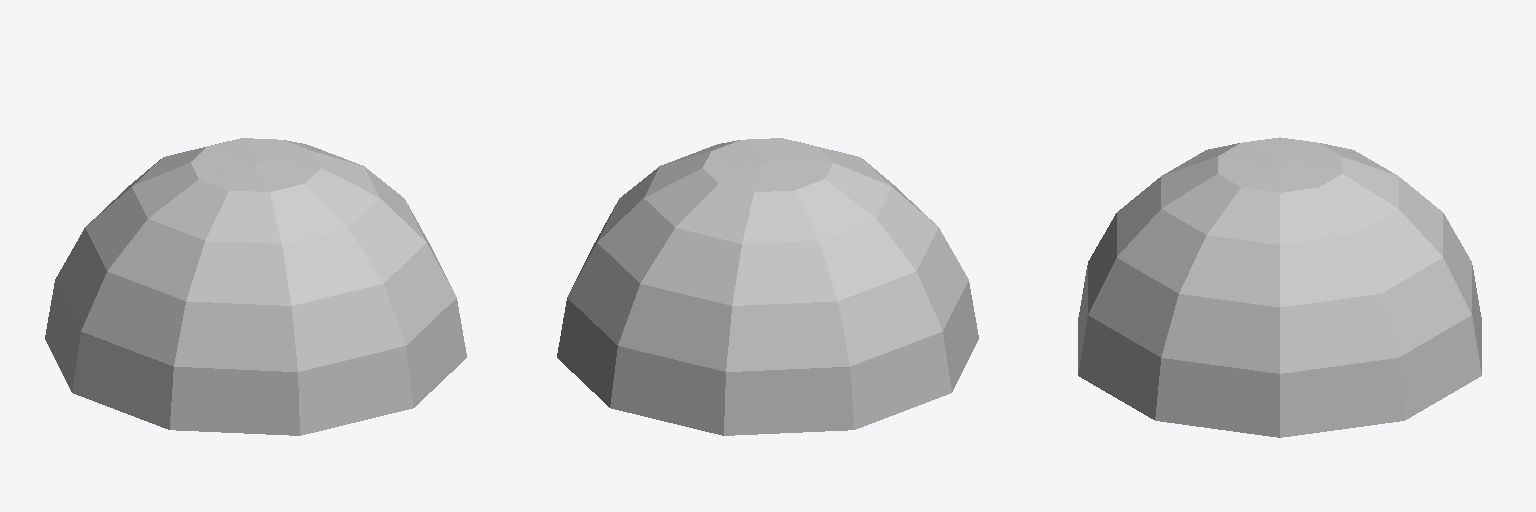
The model's file is dome.obj.
3 renders of one model, left to right at view 1: azimuth 30°, elevation 25°; view 2: azimuth 150°, elevation 25°; view 3: azimuth 270°, elevation 25°, orthographic.
Parts seen in each view (by area): view 1: polySurface6 pSphere1; view 2: polySurface6 pSphere1; view 3: polySurface6 pSphere1.
Boxes of the visible parts, <box> form: polySurface6 pSphere1: <box>45,138,466,435</box>; polySurface6 pSphere1: <box>557,138,978,435</box>; polySurface6 pSphere1: <box>1078,137,1481,437</box>.
Bounding box in the file's own units: 0.9932 × 0.4757 × 0.9446.